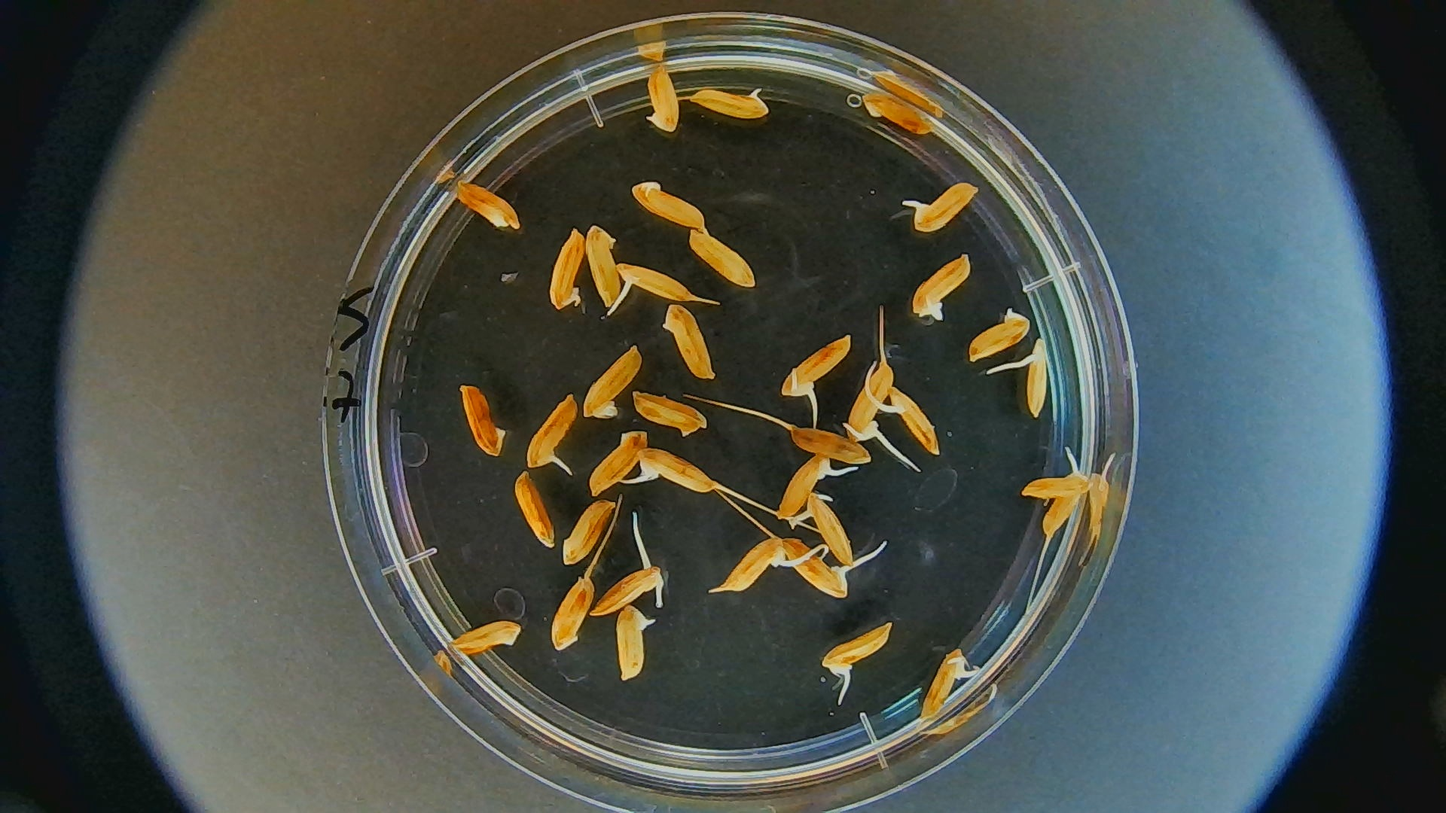no: (581, 347, 639, 421), (512, 473, 564, 553), (456, 385, 510, 457), (664, 307, 716, 381), (588, 428, 645, 495), (632, 177, 703, 230), (689, 231, 752, 289), (966, 307, 1032, 362), (1029, 477, 1091, 534), (634, 391, 707, 439), (456, 179, 522, 230), (861, 90, 934, 136), (563, 497, 609, 569), (788, 426, 872, 464), (549, 230, 586, 311), (551, 574, 590, 650), (583, 225, 620, 301), (450, 618, 520, 656), (645, 62, 682, 130)
yes: (523, 394, 578, 473), (821, 620, 895, 678), (910, 254, 974, 320), (590, 561, 665, 617), (781, 335, 848, 394), (875, 388, 939, 449), (920, 649, 969, 723), (846, 359, 890, 440), (725, 536, 786, 594), (789, 542, 850, 599), (807, 494, 856, 564), (615, 601, 657, 681), (913, 184, 981, 233), (638, 449, 710, 495), (780, 454, 832, 515), (619, 262, 693, 301), (692, 87, 772, 119), (1022, 470, 1091, 501), (1023, 337, 1050, 416)
